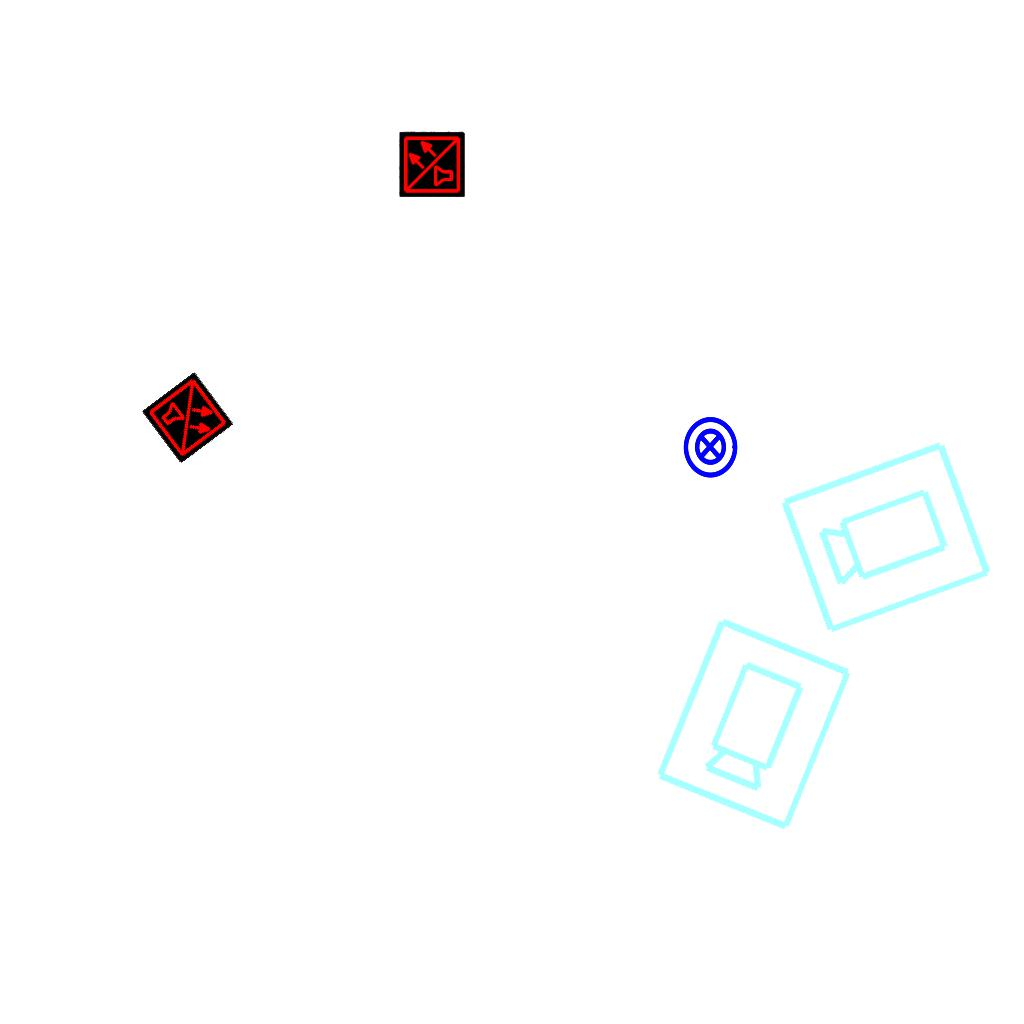KFO_Kamera_mit_Festobjektiv: (647, 609, 859, 837), (774, 432, 998, 640)
OKW_Multisensormelder_(Kombination_optischer_Rauch-Kahlenmonoxid_Waerme-Melder): (141, 371, 235, 465), (399, 131, 465, 197)
Taster_beleuchtet: (677, 414, 743, 480)
